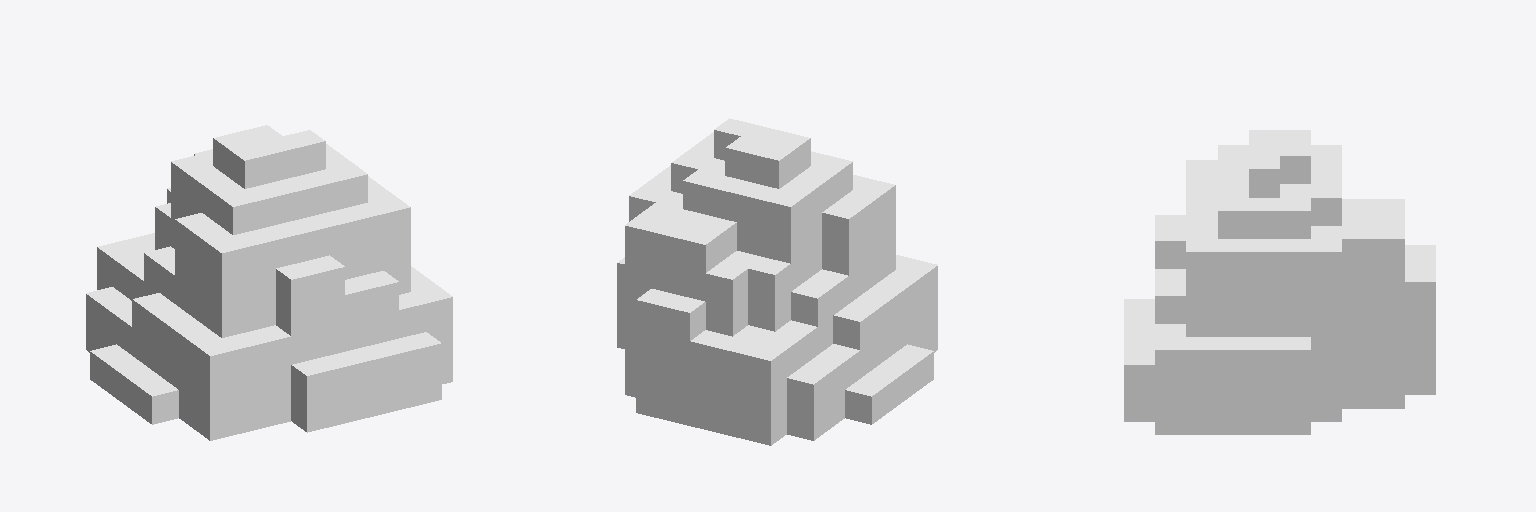
File: rock_1.obj
The picture shows the model from 3 angles: view 1: azimuth 30°, elevation 25°; view 2: azimuth 150°, elevation 25°; view 3: azimuth 270°, elevation 25°; orthographic projection.
Parts seen in each view (by area): view 1: object 1; view 2: object 1; view 3: object 1.
Boxes of the visible parts, x1=… form: object 1: x1=86, y1=125, x2=452, y2=440; object 1: x1=617, y1=118, x2=937, y2=445; object 1: x1=1124, y1=130, x2=1435, y2=434.
Bounding box in the file's own units: 1 × 0.8 × 1.